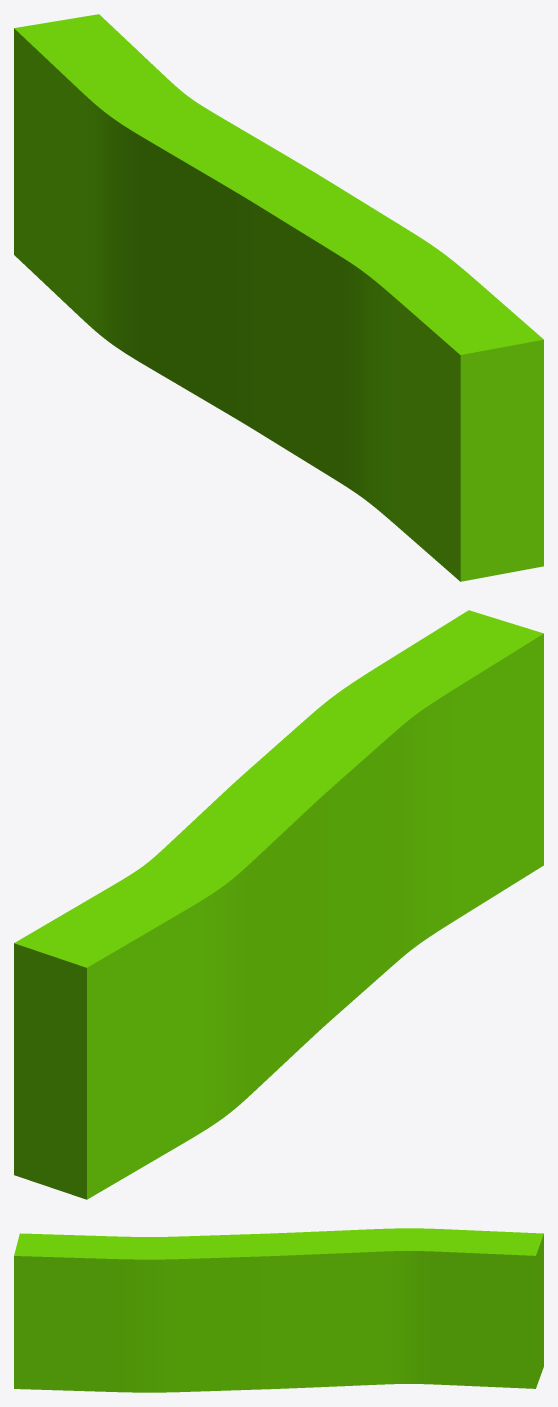
The model's file is I_green.fbx.
3 renders of one model, top to bottom at view 1: azimuth 30°, elevation 25°; view 2: azimuth 150°, elevation 25°; view 3: azimuth 270°, elevation 25°, orthographic. The views are drawn at different scales.
Parts seen in each view (by area): view 1: NurbsPath.004; view 2: NurbsPath.004; view 3: NurbsPath.004.
Boxes of the visible parts, bbox=[...] form: NurbsPath.004: bbox=[14, 14, 543, 581]; NurbsPath.004: bbox=[14, 610, 543, 1199]; NurbsPath.004: bbox=[14, 1228, 543, 1392].
Bounding box in the file's own units: 25.24 × 50 × 181.
